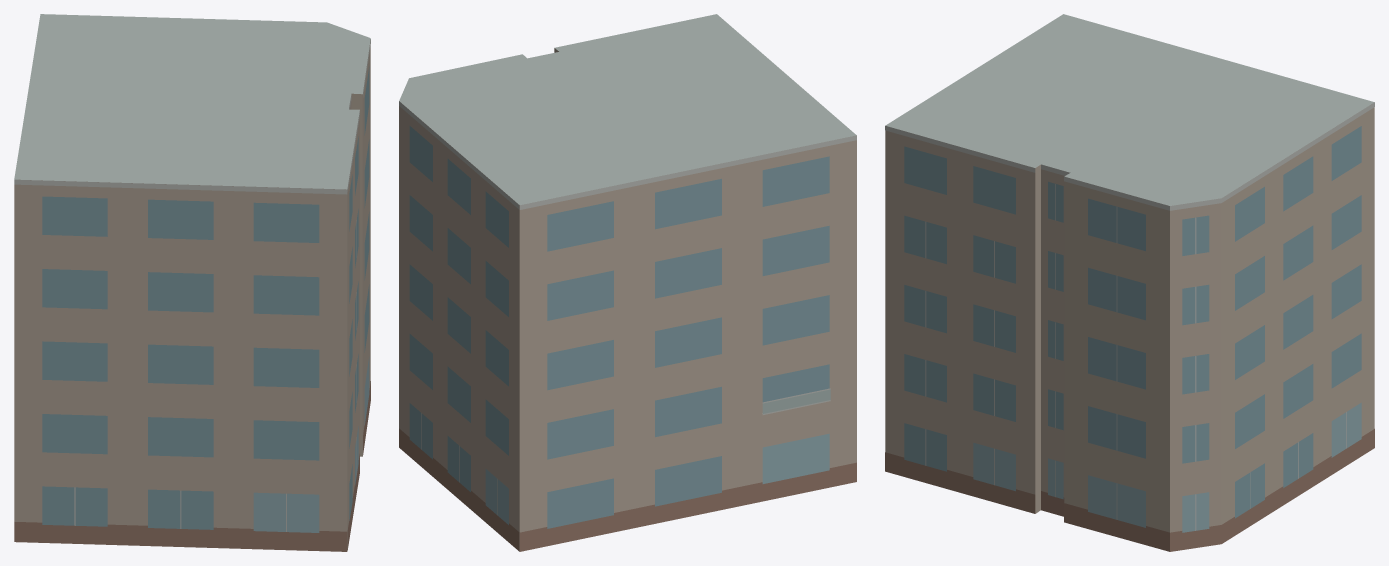
Rendered from survey-upis-32776630.glb.
The picture shows the model from 3 angles, left to right: view 1: azimuth 30°, elevation 25°; view 2: azimuth 150°, elevation 25°; view 3: azimuth 270°, elevation 25°; orthographic projection. The views are drawn at different scales.
Parts seen in each view (by area): view 1: survey-upis-32776630.tmp; view 2: survey-upis-32776630.tmp; view 3: survey-upis-32776630.tmp.
Part boxes in pixels (x1,y1,x2,y2): survey-upis-32776630.tmp: [14, 14, 370, 551]; survey-upis-32776630.tmp: [399, 14, 856, 551]; survey-upis-32776630.tmp: [885, 14, 1374, 551].
Size of the model in its own units: 21.03 by 17.65 by 22.65.
